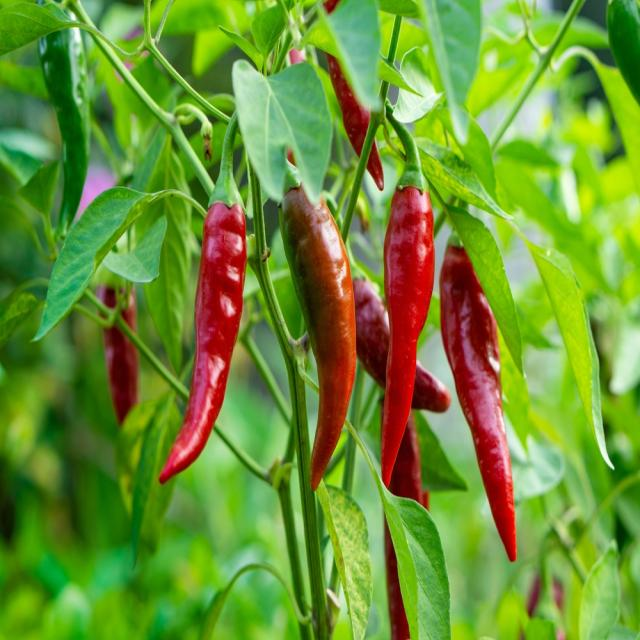Ripe: (159, 201, 246, 484), (440, 245, 516, 561), (279, 184, 356, 489), (381, 186, 435, 485), (353, 268, 450, 416), (327, 63, 387, 194)
Unripe: (39, 28, 90, 236), (606, 0, 640, 104)
